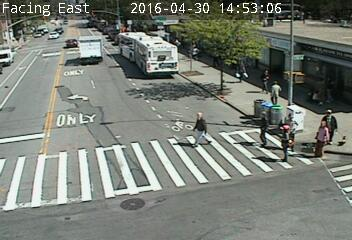neg: (53, 103, 85, 146), (77, 35, 106, 74), (237, 171, 264, 206), (117, 131, 142, 164), (135, 85, 160, 118), (13, 34, 36, 65), (141, 46, 163, 75), (115, 197, 135, 224), (207, 27, 225, 51), (179, 66, 197, 90), (175, 180, 189, 198)
pos: (272, 124, 302, 163), (186, 108, 214, 146), (311, 121, 338, 156), (248, 110, 273, 144), (321, 104, 342, 132), (282, 110, 303, 137), (255, 66, 274, 92), (266, 79, 284, 103), (232, 57, 248, 78)
